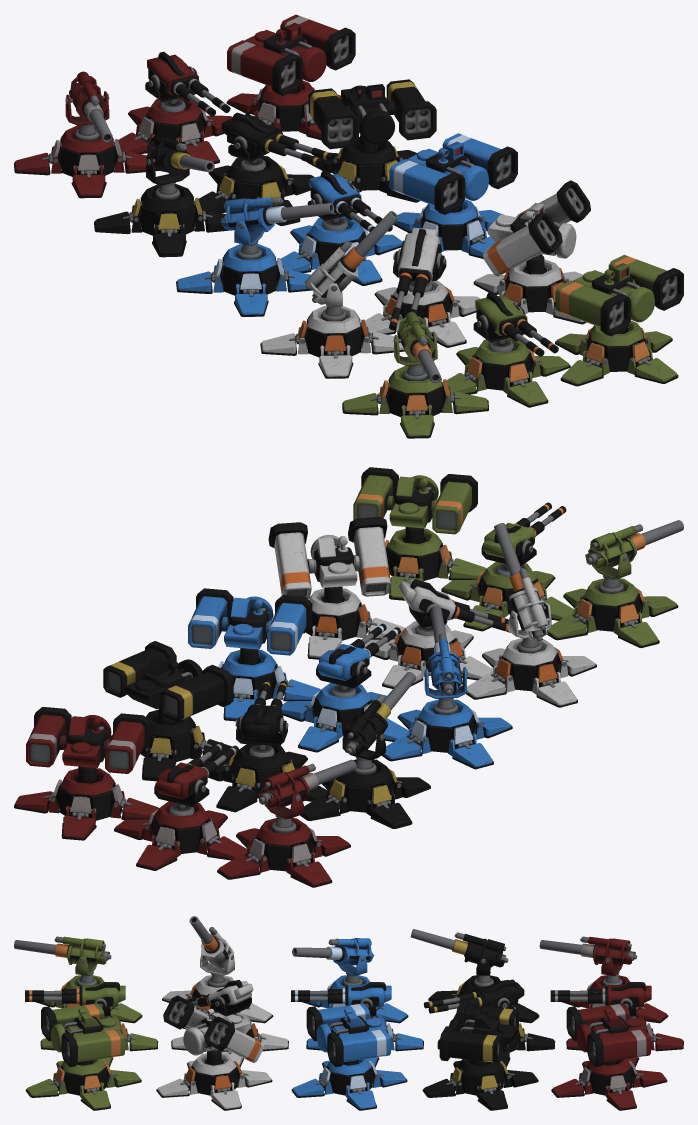
The model's file is turrets.glb.
3 views of the same model, one above another, from view 1: azimuth 30°, elevation 25°; view 2: azimuth 150°, elevation 25°; view 3: azimuth 270°, elevation 25° (orthographic). The views are drawn at different scales.
Visible parts, largest first — view 1: Object_16, Object_20, Object_12, Object_23, Object_6, Object_18, Object_10, Object_14, Object_19, Object_4, Object_2, Object_5 (+8 smaller); view 2: Object_23, Object_16, Object_12, Object_20, Object_6, Object_4, Object_18, Object_14, Object_19, Object_10, Object_8, Object_3 (+8 smaller); view 3: Object_20, Object_6, Object_16, Object_12, Object_23, Object_14, Object_19, Object_10, Object_18, Object_4, Object_11, Object_3 (+8 smaller).
Part boxes in pixels (left/top/right/bottom): Object_16: left=342, top=321, right=678, bottom=438; Object_20: left=260, top=259, right=586, bottom=378; Object_12: left=176, top=199, right=504, bottom=316; Object_23: left=14, top=80, right=341, bottom=198; Object_6: left=94, top=137, right=419, bottom=257; Object_18: left=308, top=79, right=436, bottom=152; Object_10: left=555, top=254, right=683, bottom=336; Object_14: left=389, top=133, right=517, bottom=214; Object_19: left=227, top=14, right=355, bottom=95; Object_4: left=483, top=180, right=590, bottom=276; Object_2: left=221, top=112, right=334, bottom=171; Object_5: left=221, top=197, right=334, bottom=259; Object_23: left=14, top=768, right=350, bottom=887; Object_16: left=353, top=528, right=678, bottom=648; Object_12: left=218, top=649, right=512, bottom=769; Object_20: left=271, top=588, right=596, bottom=707; Object_6: left=110, top=709, right=430, bottom=828; Object_4: left=268, top=516, right=390, bottom=602; Object_18: left=103, top=641, right=233, bottom=724; Object_14: left=188, top=588, right=312, bottom=664; Object_19: left=26, top=707, right=150, bottom=782; Object_10: left=353, top=467, right=477, bottom=543; Object_8: left=494, top=523, right=551, bottom=653; Object_3: left=585, top=520, right=683, bottom=593; Object_20: left=156, top=975, right=288, bottom=1110; Object_6: left=422, top=975, right=555, bottom=1110; Object_16: left=25, top=975, right=158, bottom=1110; Object_12: left=291, top=975, right=423, bottom=1110; Object_23: left=551, top=975, right=683, bottom=1110; Object_14: left=306, top=1003, right=390, bottom=1067; Object_19: left=566, top=1003, right=650, bottom=1067; Object_10: left=41, top=1003, right=124, bottom=1067; Object_18: left=439, top=1000, right=518, bottom=1064; Object_4: left=163, top=995, right=264, bottom=1064; Object_11: left=410, top=929, right=508, bottom=987; Object_3: left=14, top=936, right=111, bottom=986.
Size of the model in its own units: 21.95 by 8.86 by 49.41.
20 materials, 20 textured.
